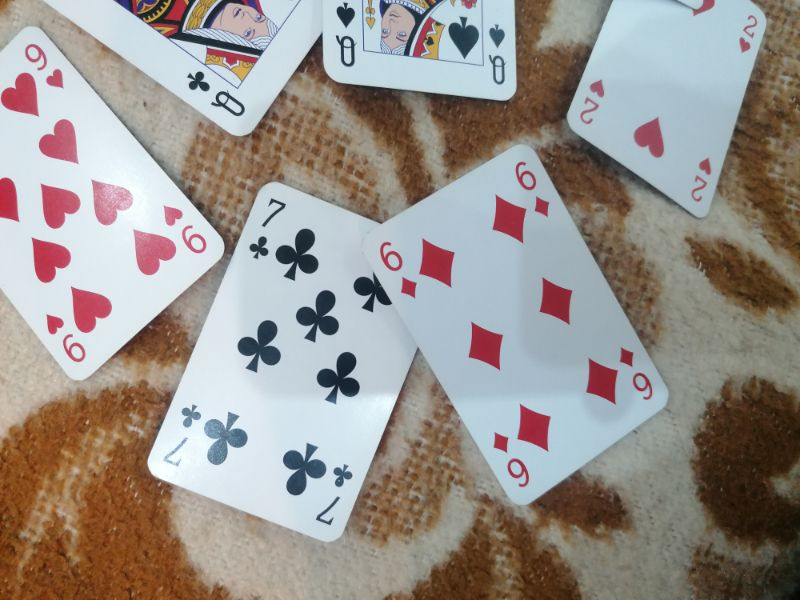2h: (688, 148, 720, 209), (574, 71, 607, 129), (735, 7, 761, 58)
6d: (374, 235, 427, 305), (483, 423, 535, 492), (615, 340, 662, 406), (511, 154, 557, 220)
7c: (245, 193, 291, 266), (312, 456, 354, 532), (162, 400, 204, 473)
9h: (39, 305, 96, 369), (156, 197, 214, 259), (16, 39, 74, 94)
Qc: (179, 64, 251, 122)
Qs: (478, 18, 519, 96), (326, 1, 368, 76)
